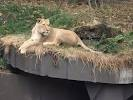lion: (20, 18, 93, 64)
